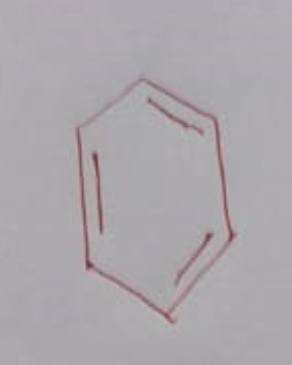shape_mask: (64, 66, 250, 333)
